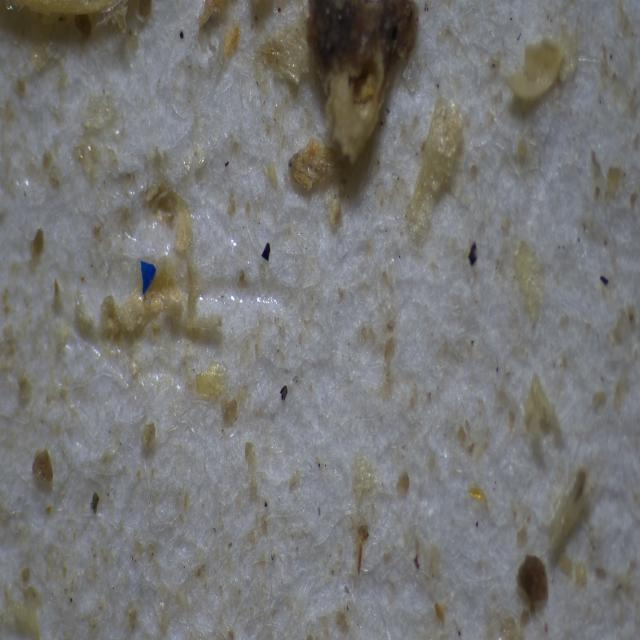microplastic: (141, 262, 161, 299)
